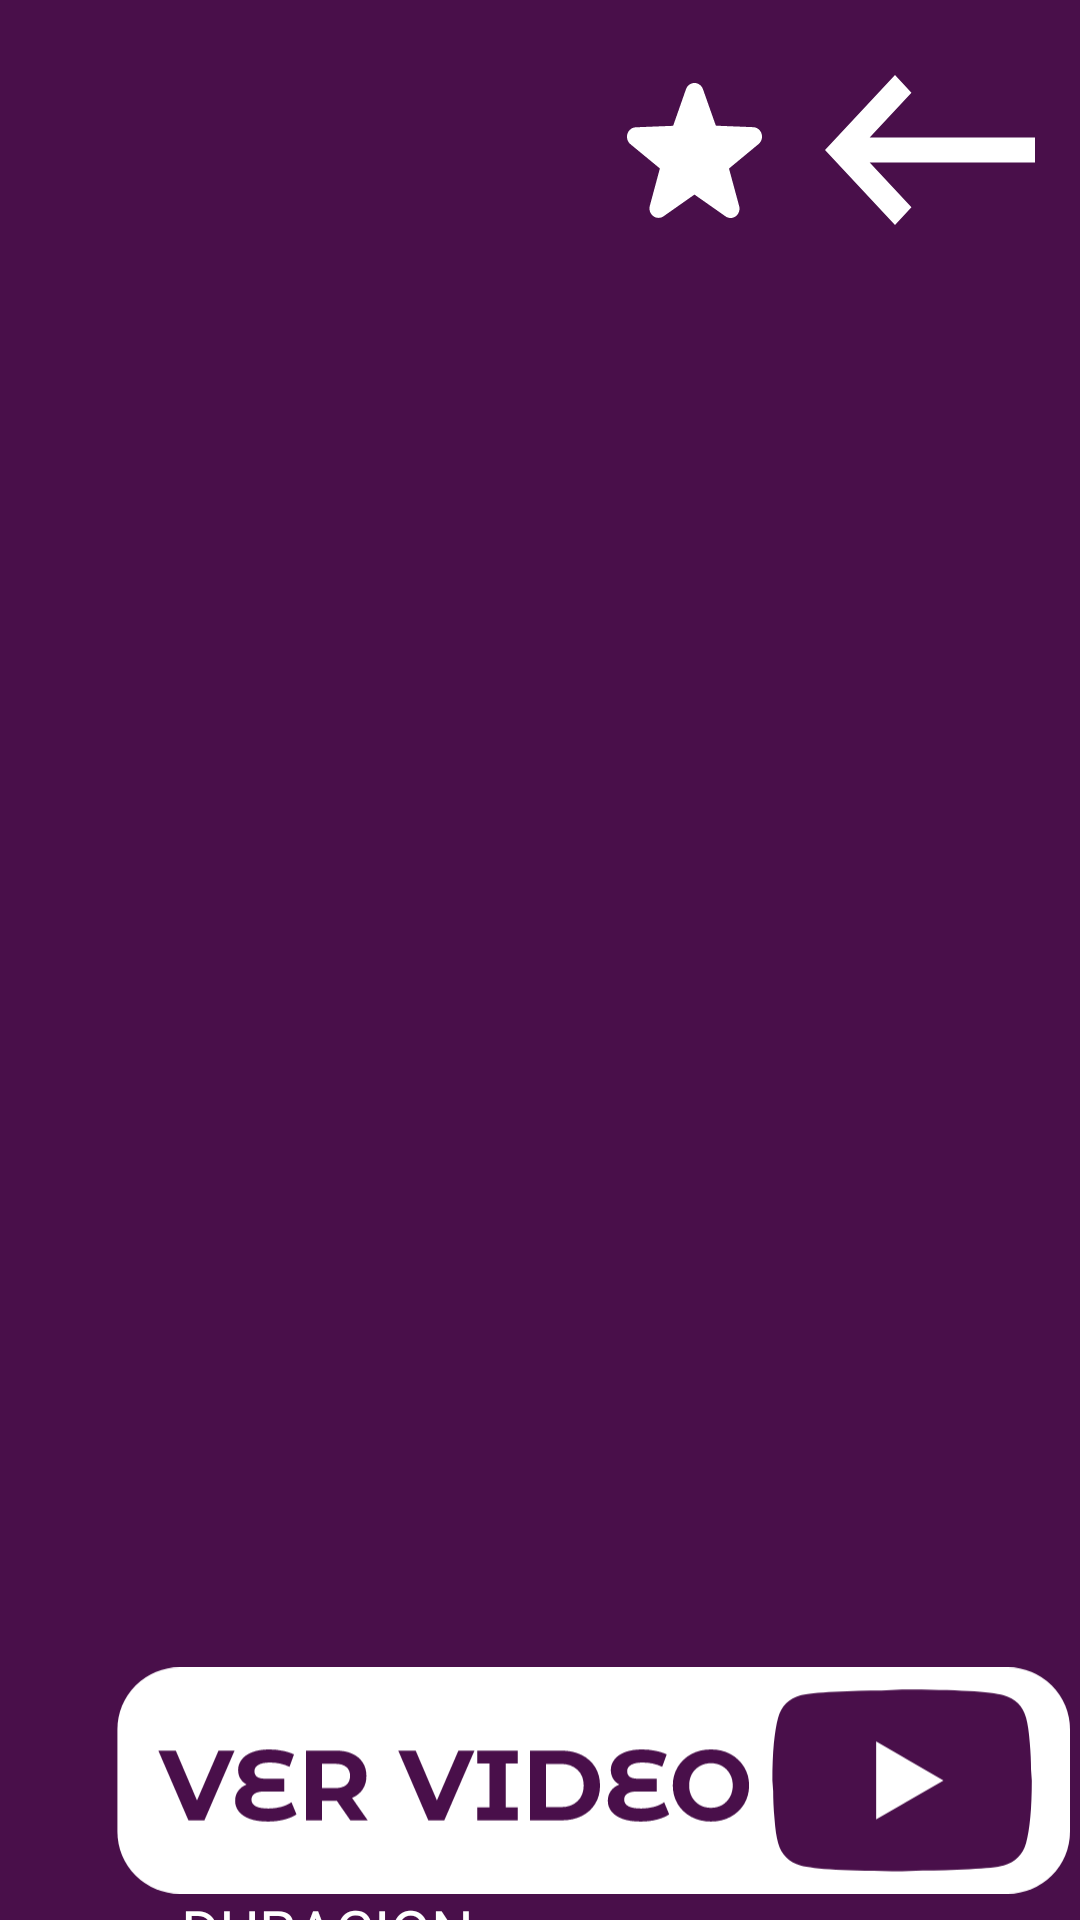

Where icons sit on this 1080 x 1920 app screen, as (x1, y1, x2, y2):
back: (825, 75, 1035, 225)
fav: (627, 83, 762, 218)
